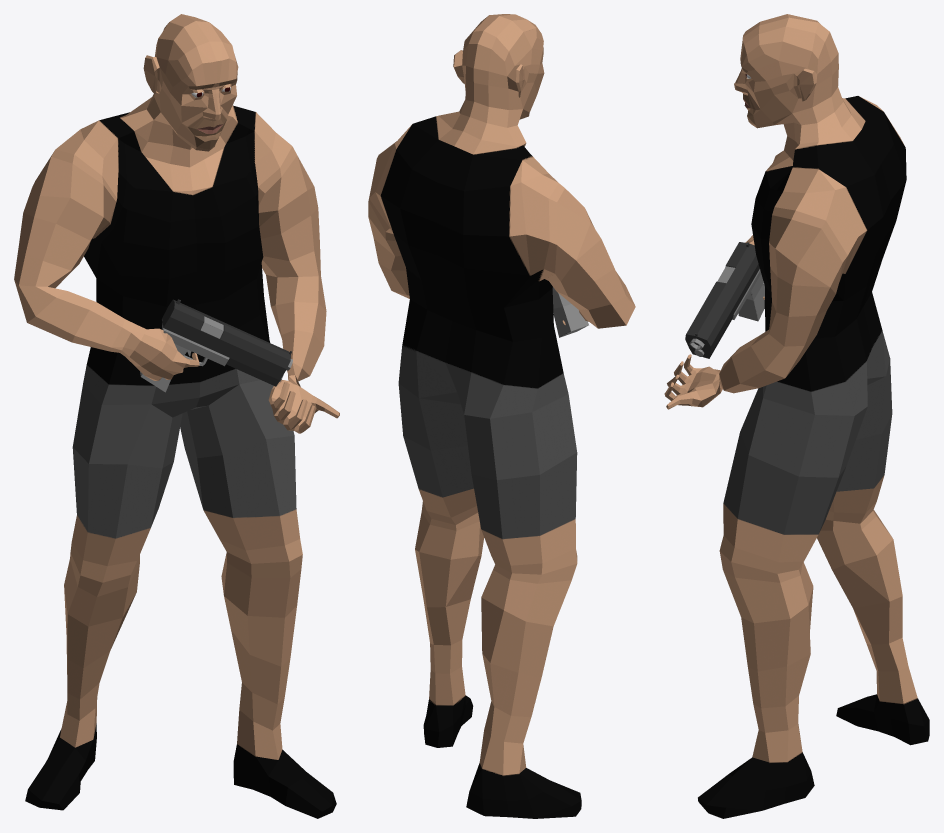
File: PlayerIdle(91).obj
The picture shows the model from 3 angles, left to right: view 1: azimuth 30°, elevation 25°; view 2: azimuth 150°, elevation 25°; view 3: azimuth 270°, elevation 25°; orthographic projection. The views are drawn at different scales.
Visible parts, largest first — view 1: Plane002, Box003; view 2: Plane002, Box003; view 3: Plane002, Box003.
Part boxes in pixels (x1=…): Plane002: x1=14, y1=14, x2=339, y2=818; Box003: x1=140, y1=299, x2=292, y2=392; Plane002: x1=368, y1=14, x2=635, y2=818; Box003: x1=552, y1=287, x2=588, y2=337; Plane002: x1=664, y1=14, x2=929, y2=818; Box003: x1=685, y1=242, x2=764, y2=358.
Bounding box in the file's own units: 673 × 1802 × 576.
